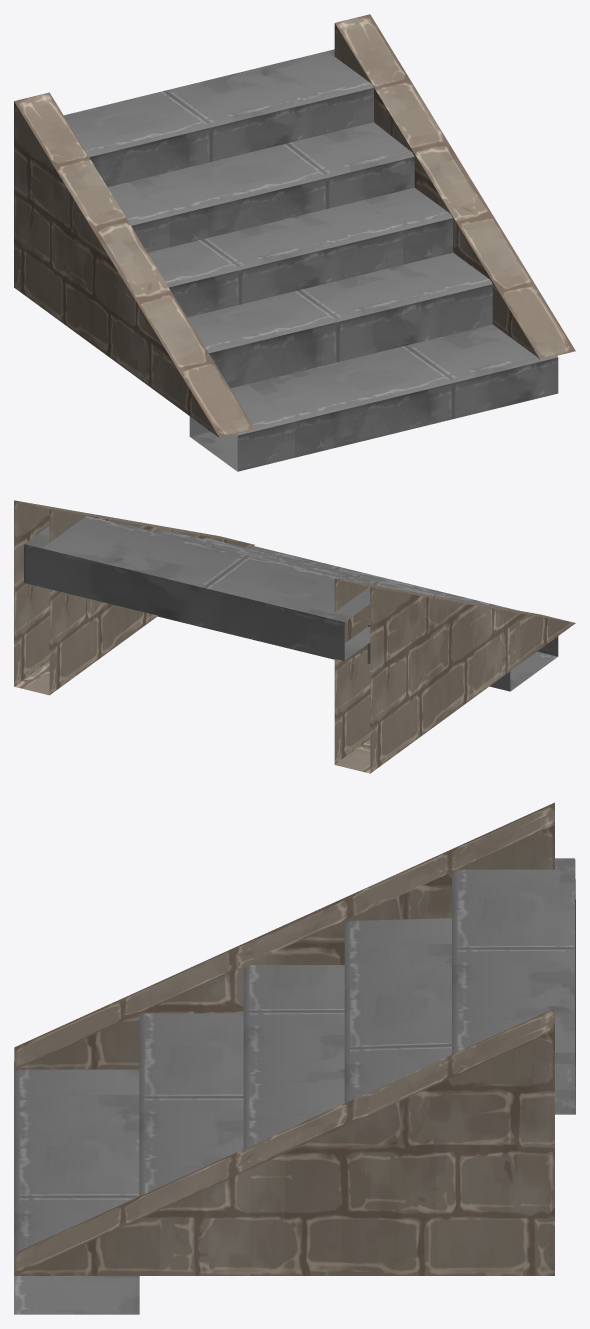
The model's file is Stairs_Exterior_Straight.gltf.
3 views of the same model, one above another, from view 1: azimuth 30°, elevation 25°; view 2: azimuth 150°, elevation 25°; view 3: azimuth 270°, elevation 25° (orthographic). The views are drawn at different scales.
Visible parts, largest first — view 1: Stairs_Exterior_Straight; view 2: Stairs_Exterior_Straight; view 3: Stairs_Exterior_Straight.
Part boxes in pixels (x1,y1,x2,y2): Stairs_Exterior_Straight: (14, 14, 575, 471); Stairs_Exterior_Straight: (14, 500, 575, 773); Stairs_Exterior_Straight: (14, 802, 575, 1314).
Bounding box in the file's own units: 2 × 1.2 × 2.08.
Materials: 2 (2 with a texture image).
